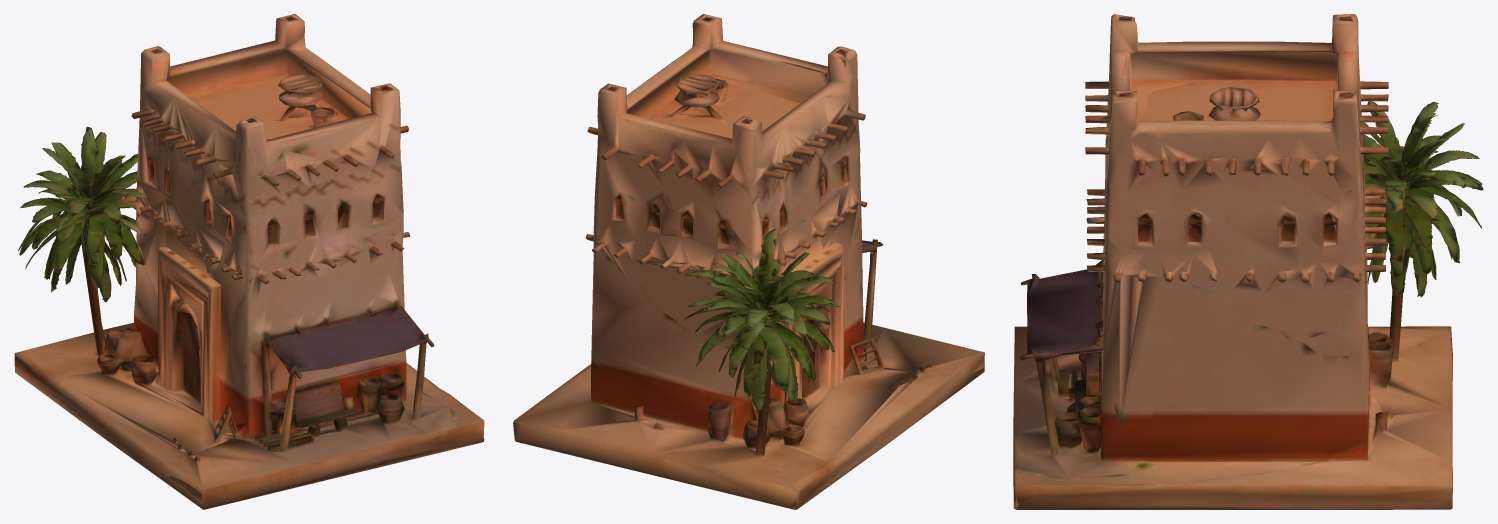
The model's file is house_trading_post.glb.
3 views of the same model, side by side, from view 1: azimuth 30°, elevation 25°; view 2: azimuth 150°, elevation 25°; view 3: azimuth 270°, elevation 25° (orthographic). The views are drawn at different scales.
Parts seen in each view (by area): view 1: material; view 2: material; view 3: material.
Boxes of the visible parts, x1=… form: material: x1=14, y1=14, x2=484, y2=509; material: x1=513, y1=14, x2=984, y2=509; material: x1=1013, y1=14, x2=1483, y2=509.
Bounding box in the file's own units: 0.636 × 0.6911 × 0.7637.
Materials: 1 (1 with a texture image).
